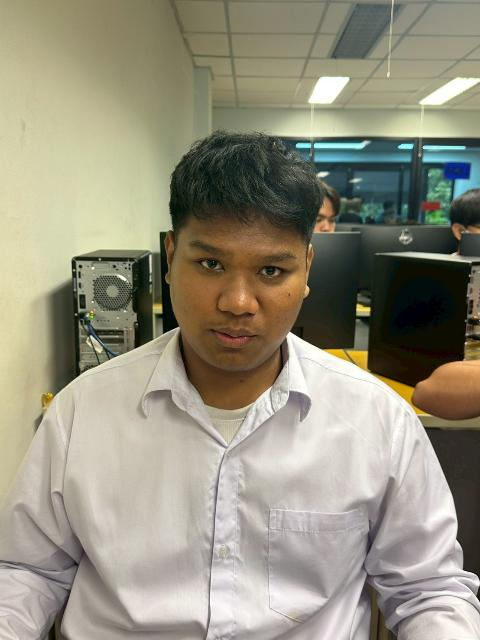fokus: (175, 200, 304, 369)
